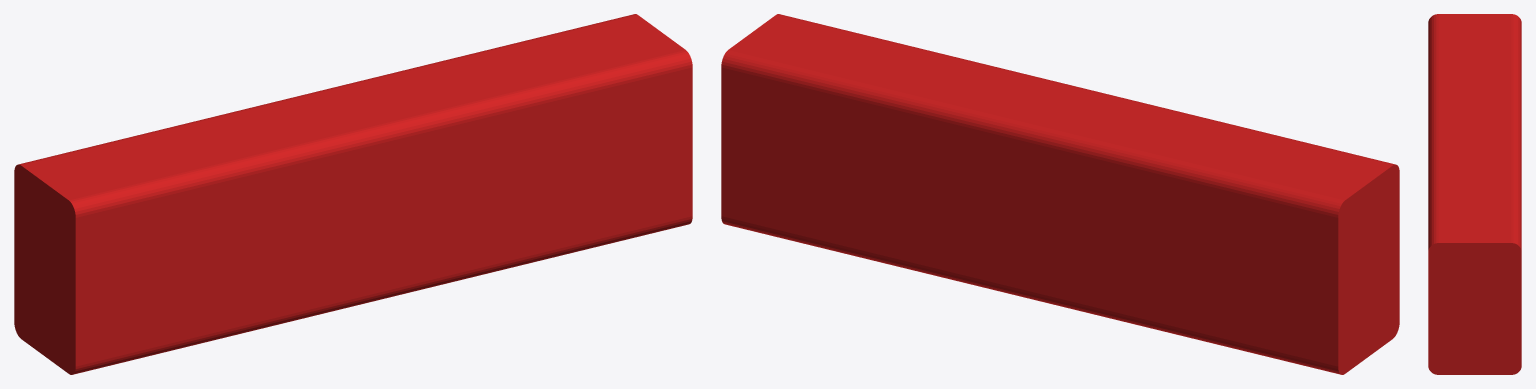
Rendered from peg_48_canonical_colored.obj.
3 renders of one model, left to right at view 1: azimuth 30°, elevation 25°; view 2: azimuth 150°, elevation 25°; view 3: azimuth 270°, elevation 25°, orthographic. The views are drawn at different scales.
Size of the model in its own units: 0.15 by 0.0403 by 0.0259.
